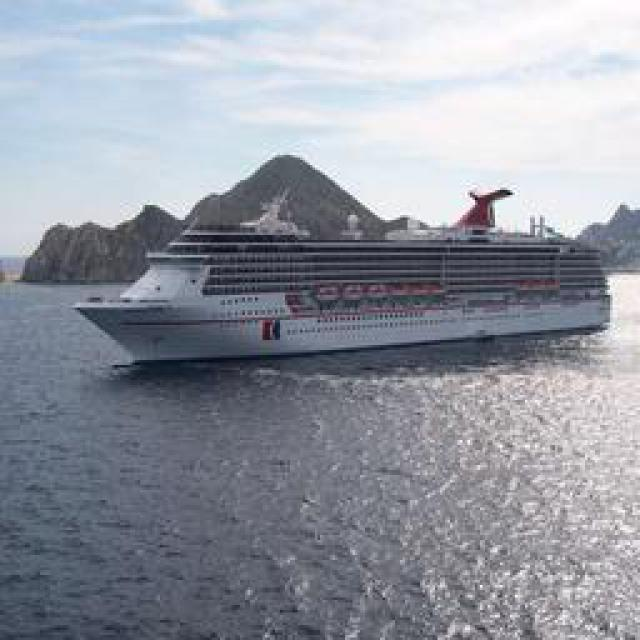Ship: (73, 208, 608, 366)
